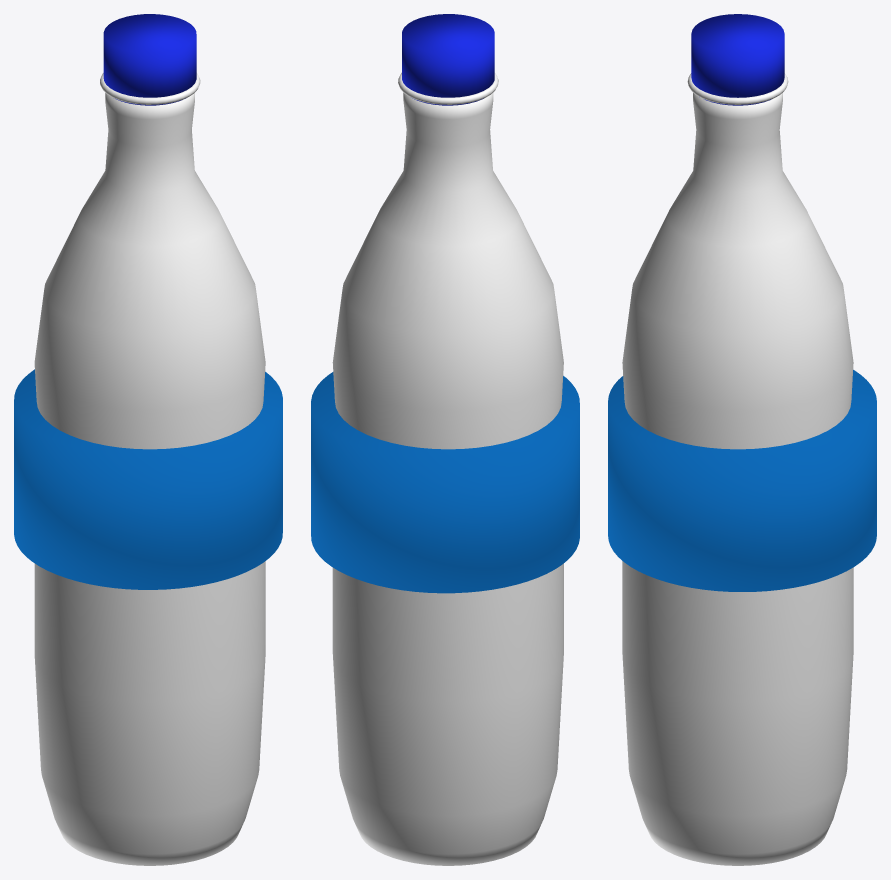
File: botella2.glb
3 renders of one model, left to right at view 1: azimuth 30°, elevation 25°; view 2: azimuth 150°, elevation 25°; view 3: azimuth 270°, elevation 25°, orthographic.
Parts seen in each view (by area): view 1: BottleBody, Label, Cap_OL, Cap_Ring; view 2: BottleBody, Label, Cap_OL, Cap_Ring; view 3: BottleBody, Label, Cap_OL, Cap_Ring.
Part boxes in pixels (<box>): BottleBody: <box>34,93,265,865</box>; Label: <box>14,369,282,589</box>; Cap_OL: <box>103,14,196,105</box>; Cap_Ring: <box>100,73,200,104</box>; BottleBody: <box>332,93,563,865</box>; Label: <box>311,372,579,593</box>; Cap_OL: <box>402,14,494,105</box>; Cap_Ring: <box>398,72,498,104</box>; BottleBody: <box>622,93,853,865</box>; Label: <box>608,370,876,591</box>; Cap_OL: <box>691,14,784,105</box>; Cap_Ring: <box>687,73,788,104</box>.
Bounding box in the file's own units: 0.8378 × 2.74 × 0.8378.
